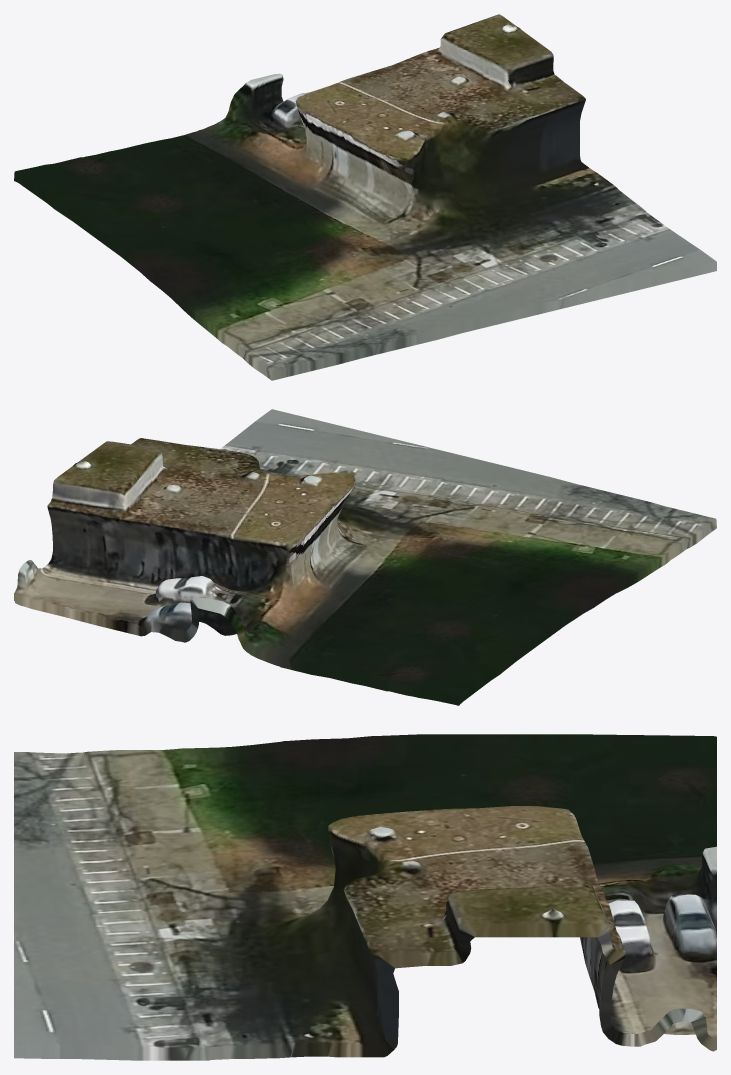
File: z20-167780-405218-h0-yup-uvflip-v3-world.glb
3 renders of one model, top to bottom at view 1: azimuth 30°, elevation 25°; view 2: azimuth 150°, elevation 25°; view 3: azimuth 270°, elevation 25°, orthographic. The views are drawn at different scales.
Size of the model in its own units: 30.2 by 6.96 by 30.32.
1 material, 1 textured.
